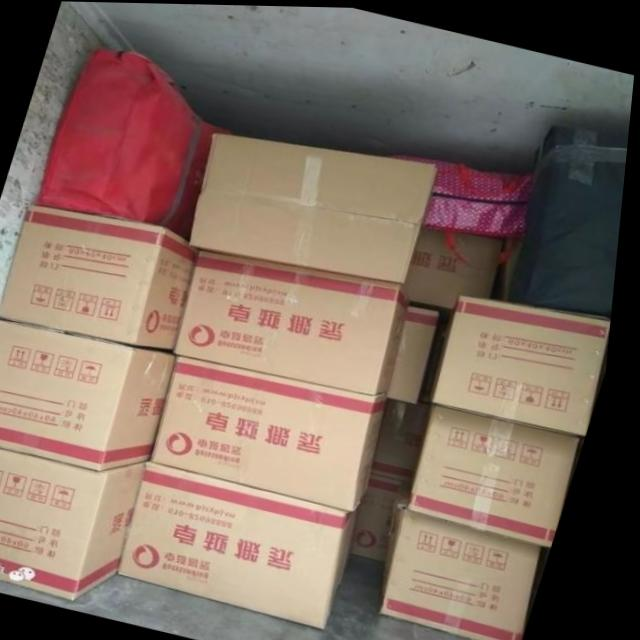box: (128, 460, 368, 627), (193, 131, 441, 281), (158, 354, 395, 509), (181, 249, 417, 393), (3, 205, 203, 348), (0, 318, 182, 470), (391, 477, 552, 640), (436, 290, 617, 433), (417, 401, 588, 544), (0, 446, 155, 600), (408, 226, 508, 306), (394, 304, 445, 401), (381, 396, 438, 481), (359, 472, 410, 559)
